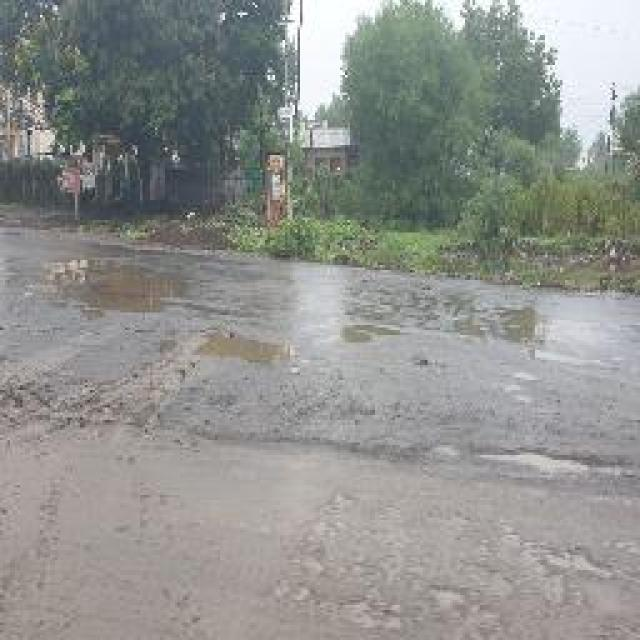stagnation: (339, 276, 554, 364), (42, 249, 200, 322), (188, 326, 300, 372)
